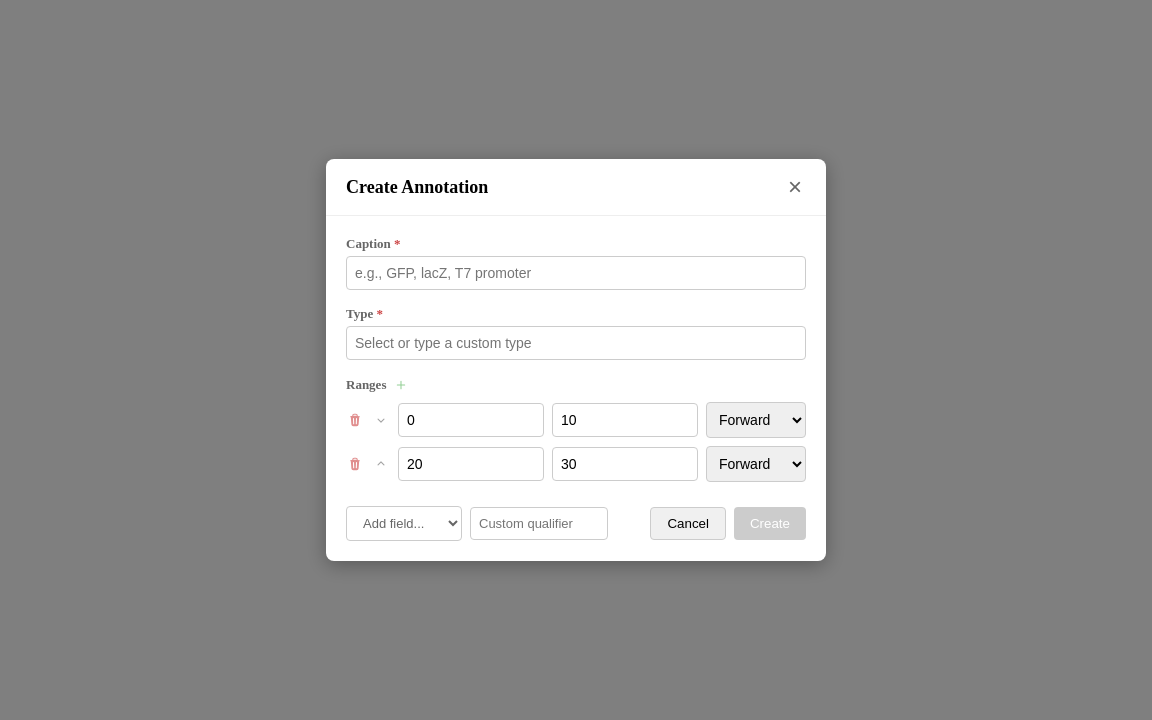
AnnotationModal › ranges section › moves range down when down button clicked
# Click down on first range
Click the button with class "btn-move-down". click: [381, 420]
box: [372,413,390,427]
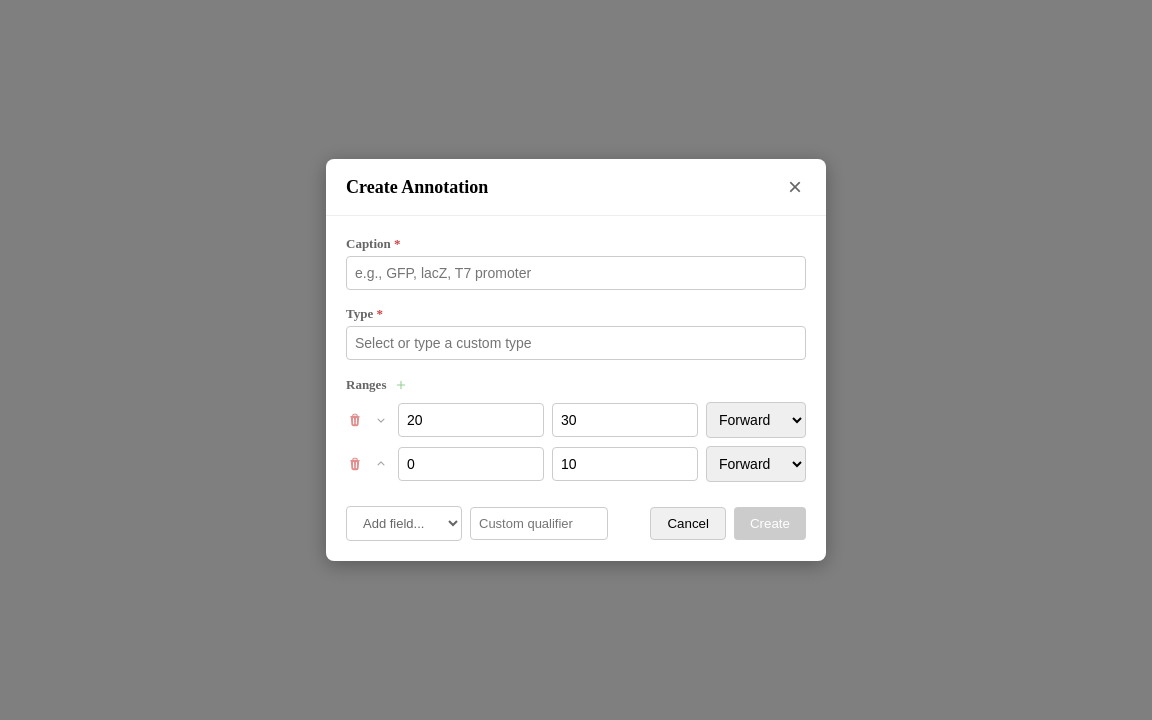
Check: the 1st number field with class "range-start" holds "20", box [398,403,544,437]
Check: the 3rd number field with class "range-start" holds "0", box [398,447,544,481]
